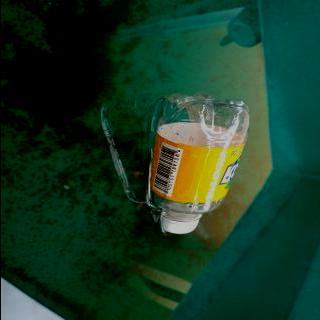bottle: (142, 90, 255, 238)
